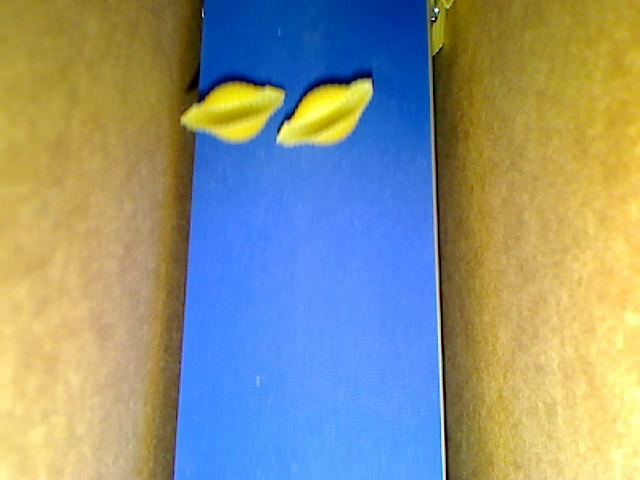penne: (430, 1, 446, 60), (434, 1, 461, 14)
shell: (177, 76, 285, 147), (272, 76, 374, 151)
